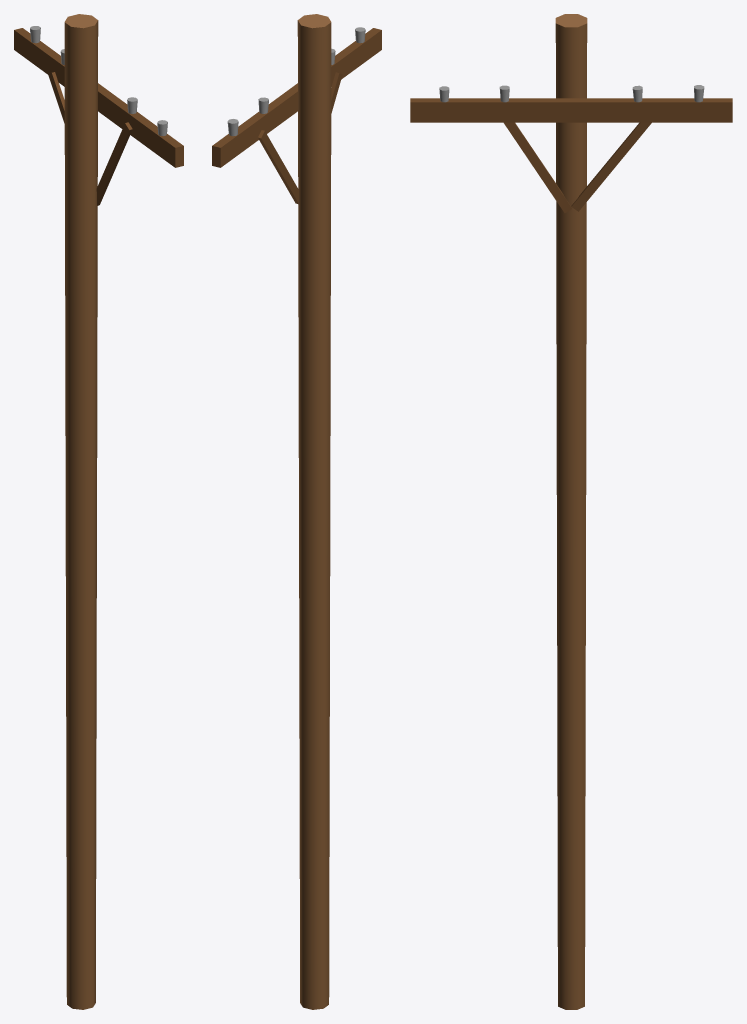
The model's file is SM_Props_Electric_01.fbx.
3 views of the same model, side by side, from view 1: azimuth 30°, elevation 25°; view 2: azimuth 150°, elevation 25°; view 3: azimuth 270°, elevation 25° (orthographic).
Visible parts, largest first — view 1: SM_Props_Electric_01; view 2: SM_Props_Electric_01; view 3: SM_Props_Electric_01.
Part boxes in pixels (x1,y1,x2,y2): SM_Props_Electric_01: (14,14,183,1009); SM_Props_Electric_01: (212,14,381,1009); SM_Props_Electric_01: (410,14,732,1009).
Size of the model in its own units: 0.2453 by 6.43 by 1.91.
